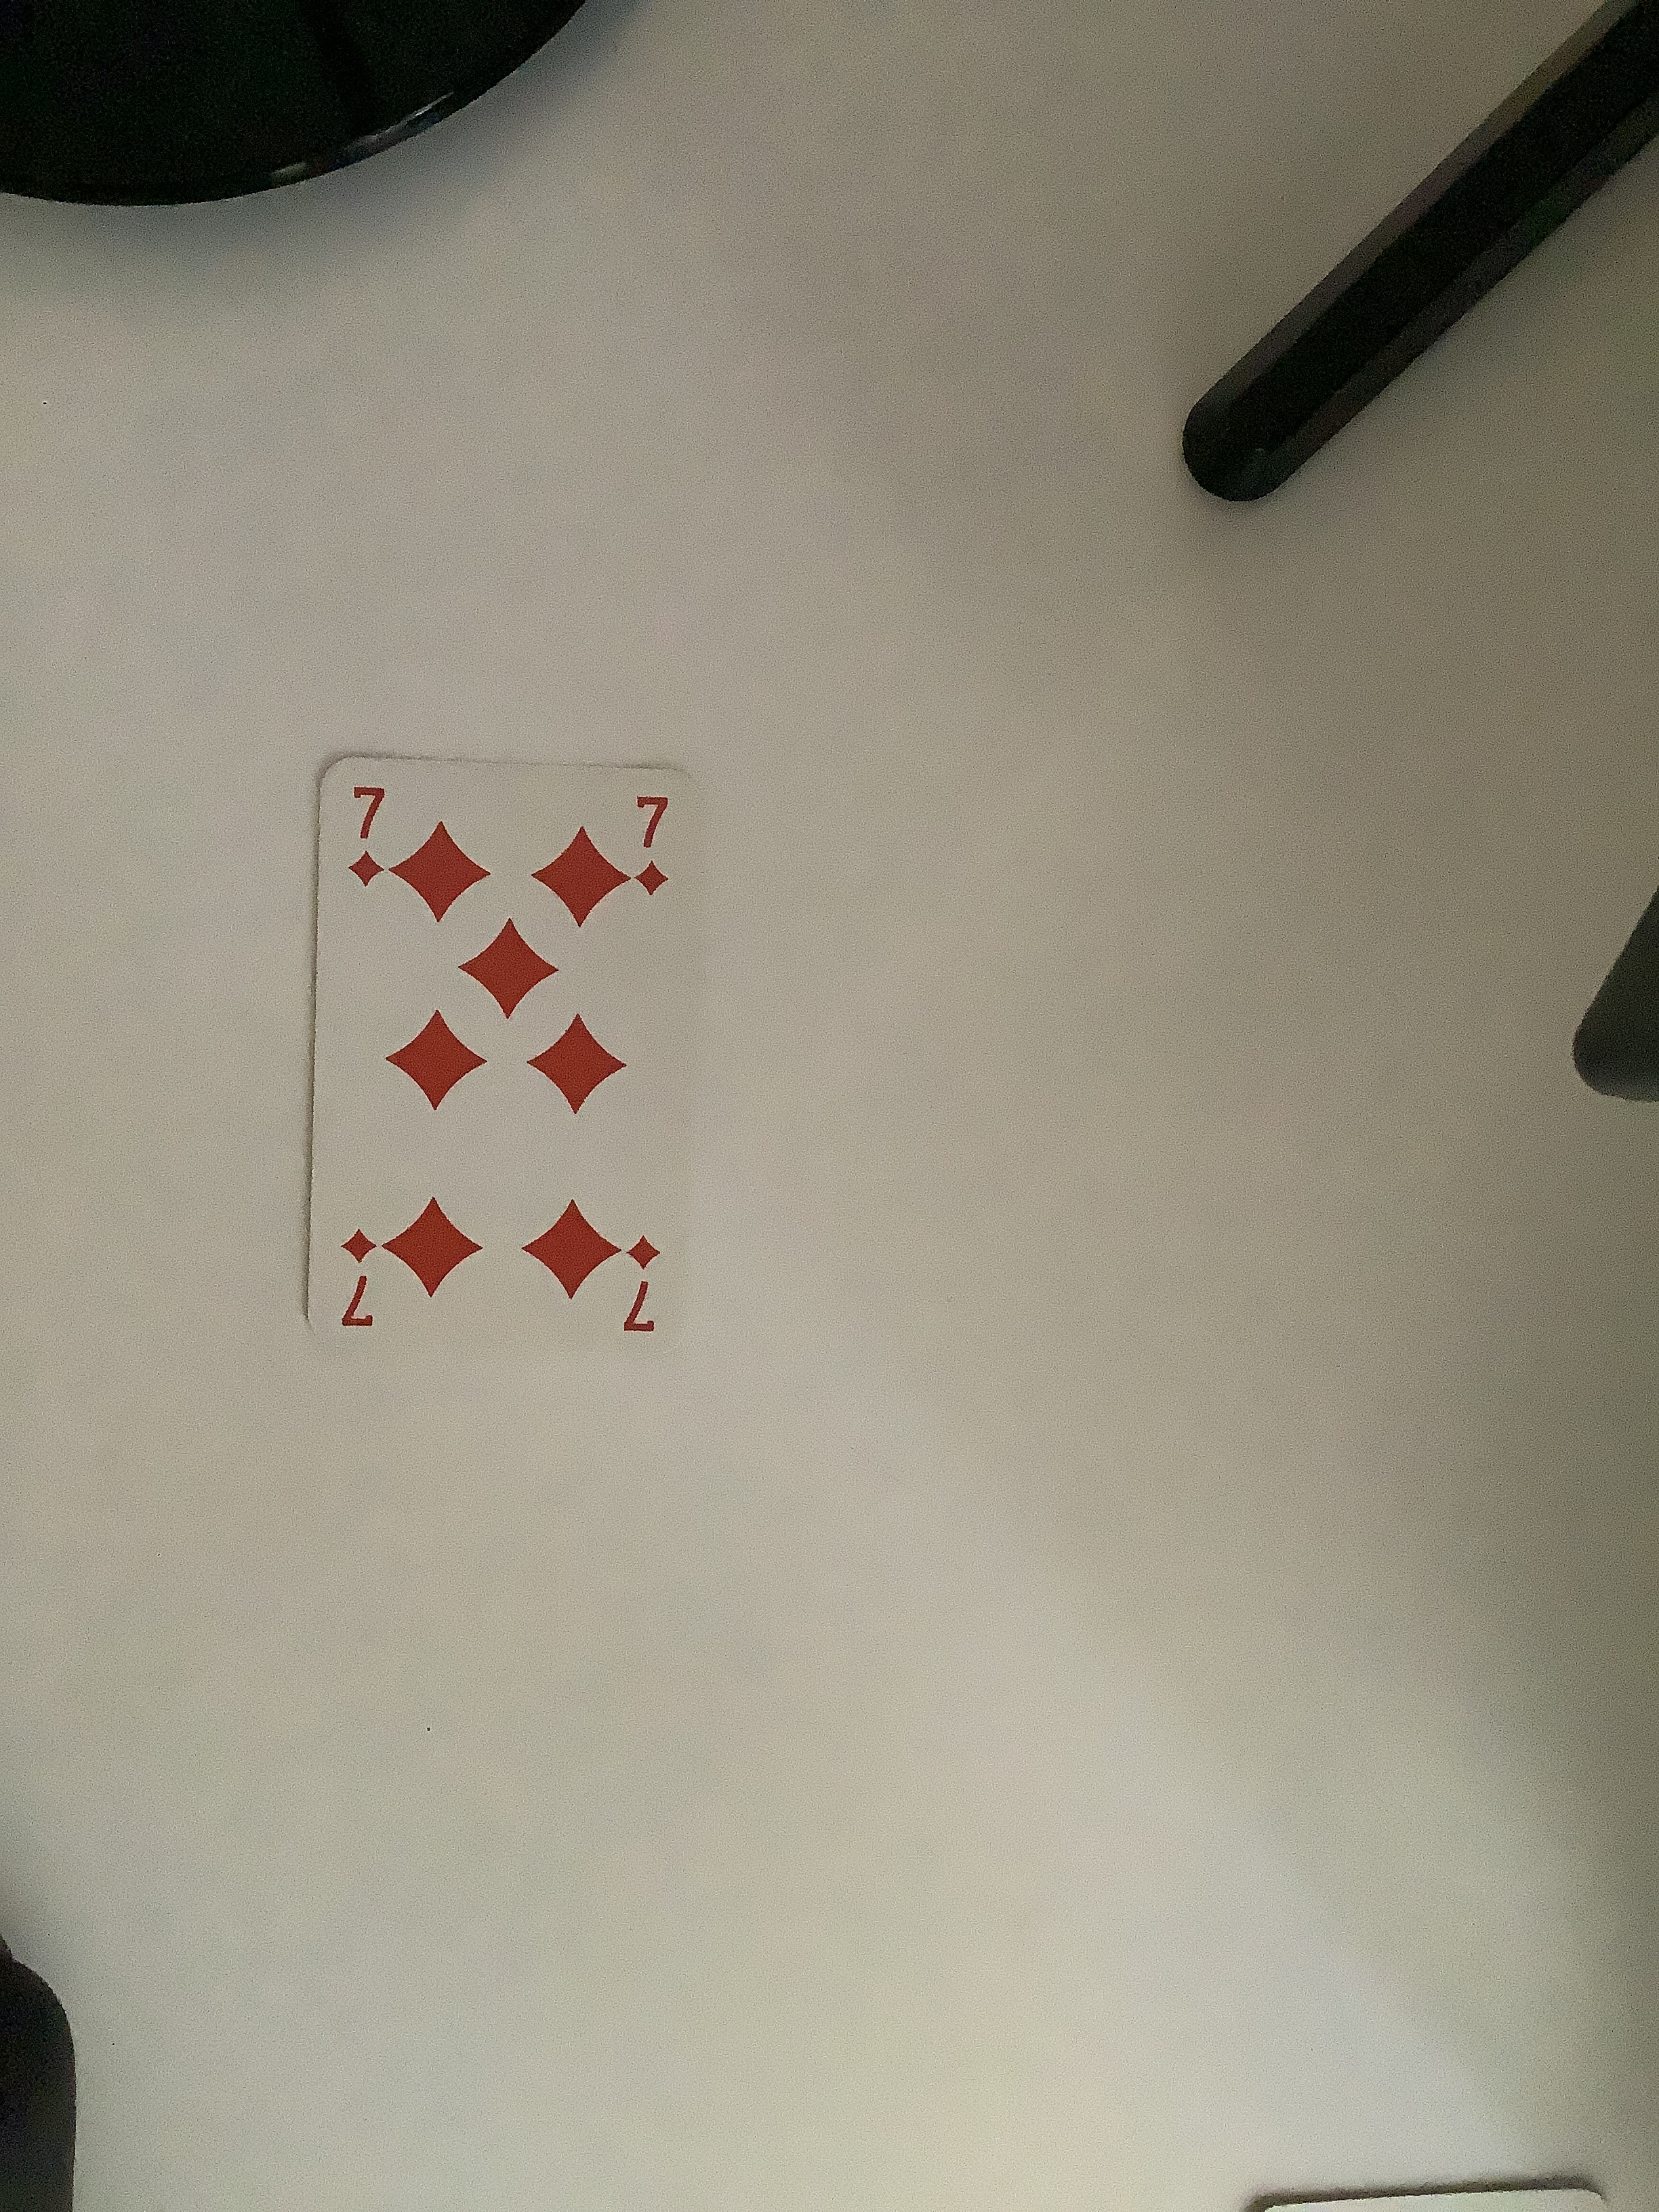♦ 7: (301, 728, 725, 1372)
